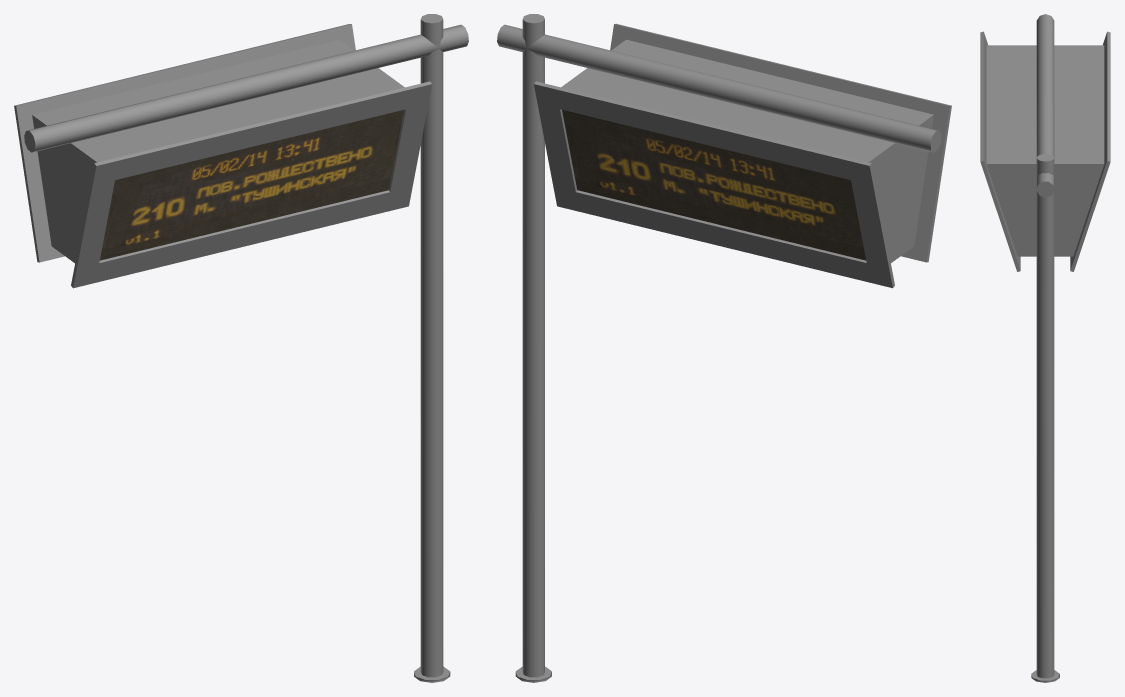
Rendered from SM_TransportBoard.FBX.
3 views of the same model, side by side, from view 1: azimuth 30°, elevation 25°; view 2: azimuth 150°, elevation 25°; view 3: azimuth 270°, elevation 25° (orthographic). The views are drawn at different scales.
Parts seen in each view (by area): view 1: SM_TransportBoard; view 2: SM_TransportBoard; view 3: SM_TransportBoard.
Part boxes in pixels (x1=…): SM_TransportBoard: x1=14, y1=14, x2=468, y2=682; SM_TransportBoard: x1=497, y1=14, x2=951, y2=682; SM_TransportBoard: x1=980, y1=14, x2=1110, y2=682.
Size of the model in its own units: 2.54 by 3.67 by 0.8354.
